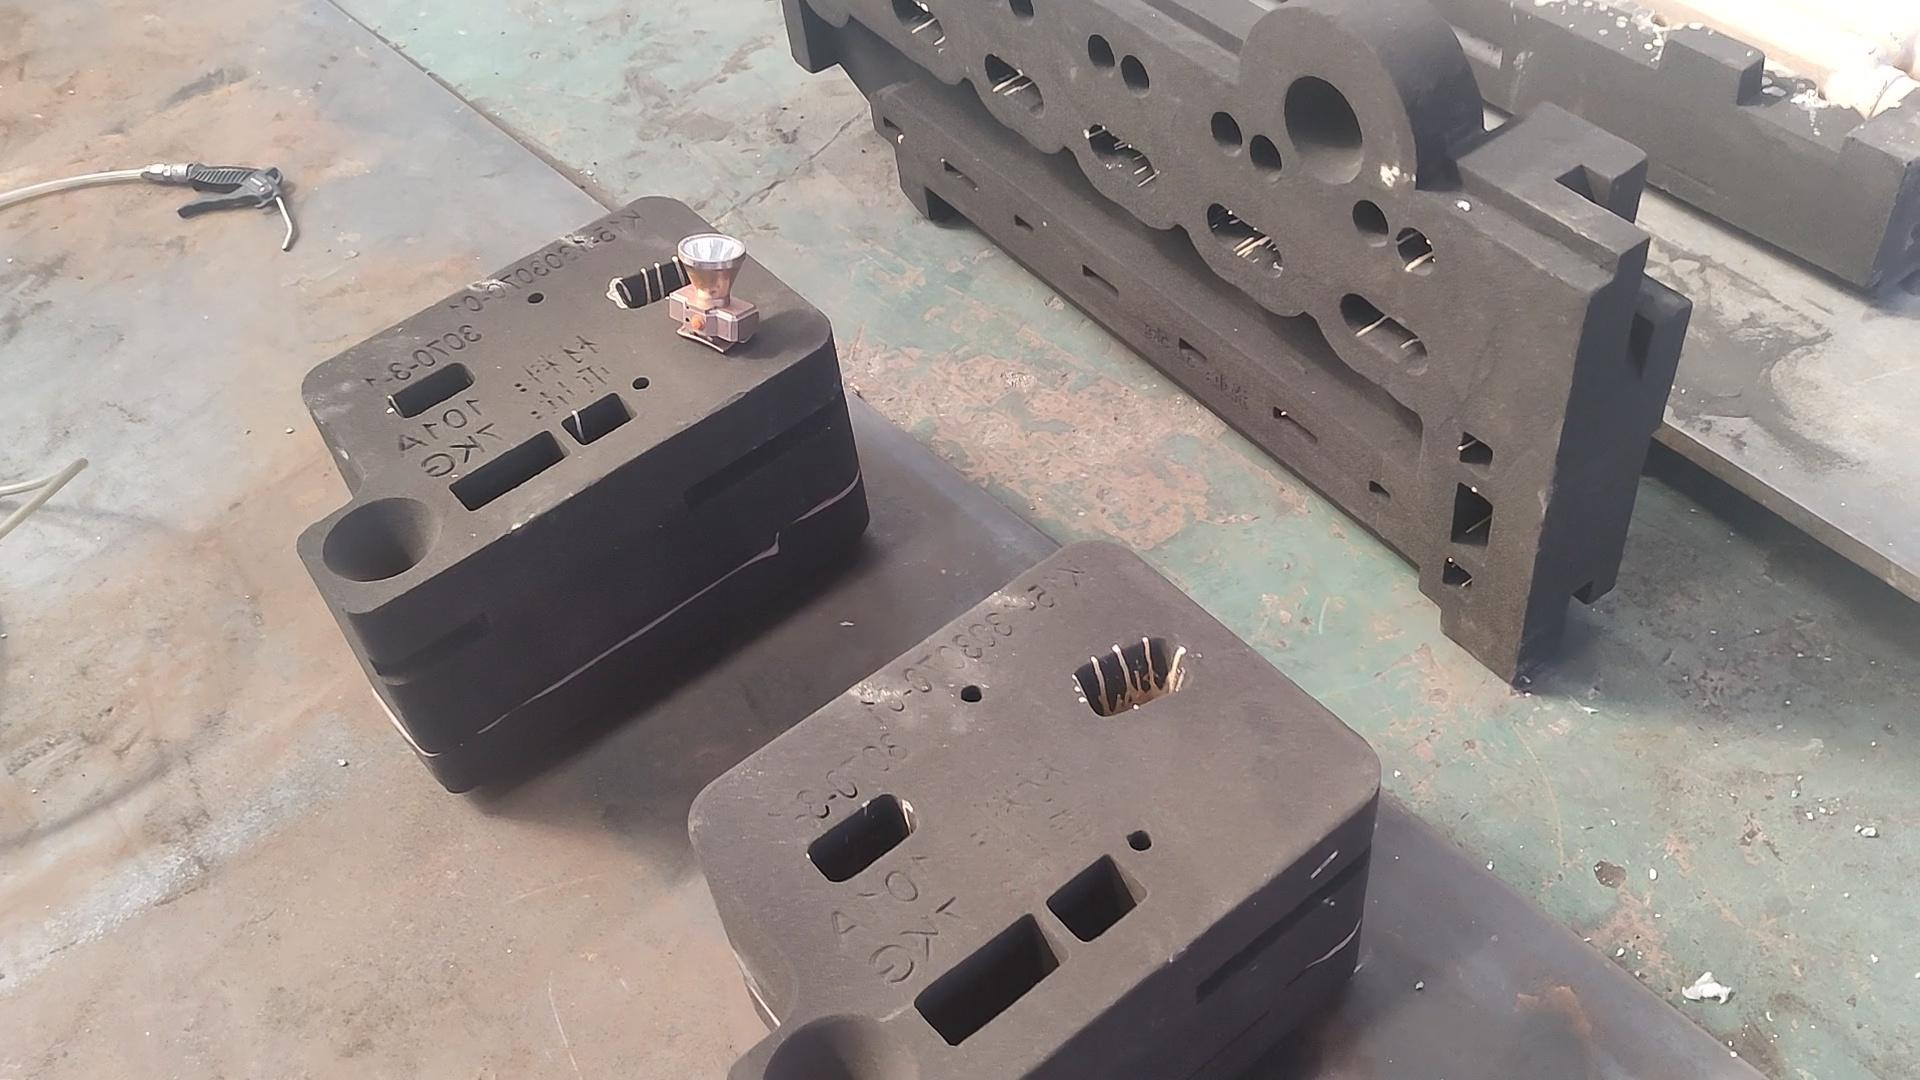pouring hole: (760, 1015, 916, 1080), (320, 497, 435, 582), (1284, 75, 1364, 185)
